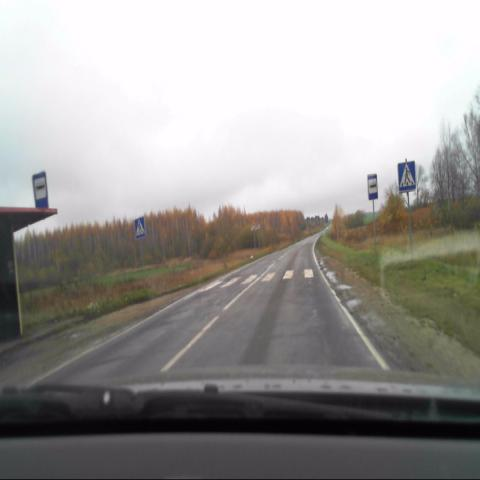5_16: (32, 170, 49, 212), (368, 174, 378, 202)
5_19_1: (398, 160, 416, 193), (134, 215, 145, 237)
